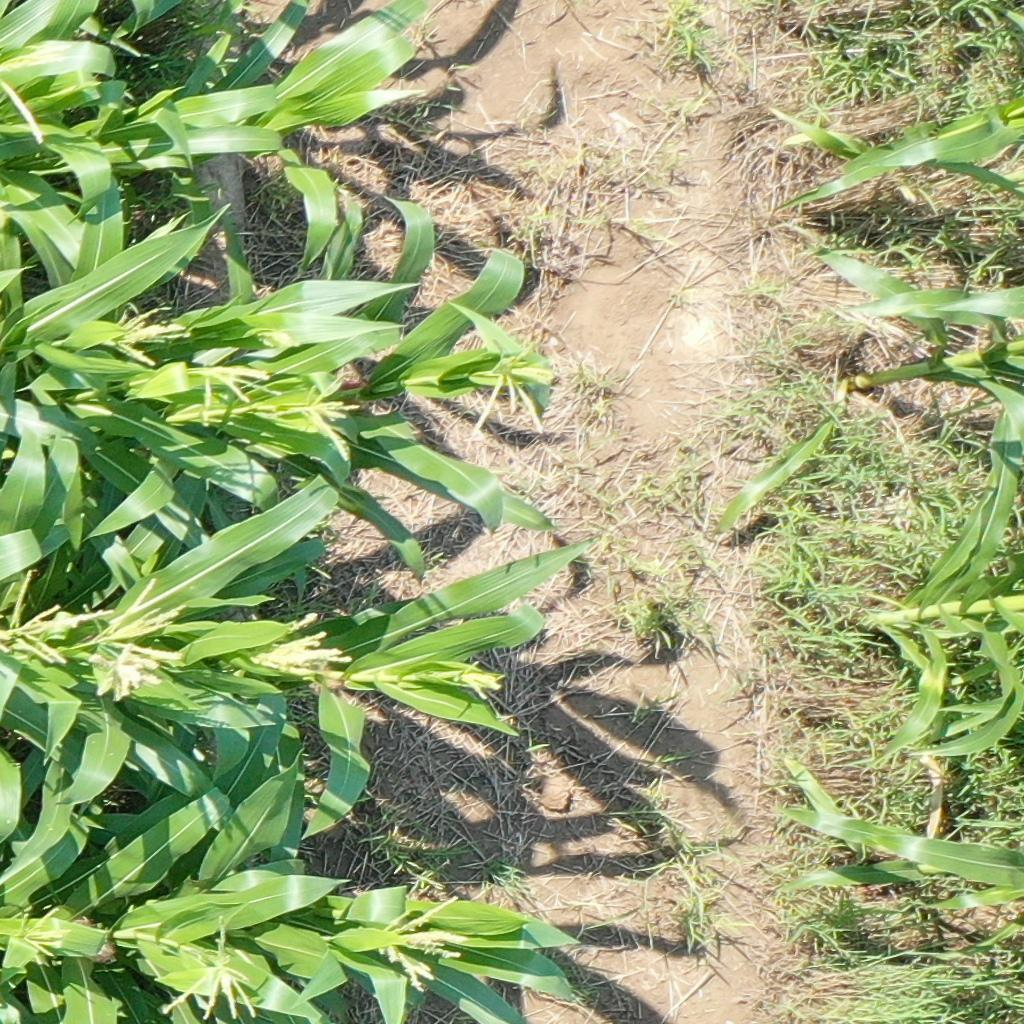Tassel: (80, 578, 188, 699), (464, 324, 563, 447), (1, 563, 111, 668), (156, 917, 259, 1020), (373, 884, 464, 996), (1, 41, 82, 146), (246, 608, 349, 687), (100, 300, 189, 372), (300, 373, 362, 461), (193, 359, 273, 425), (13, 907, 72, 963), (457, 659, 501, 699), (252, 322, 299, 353)
